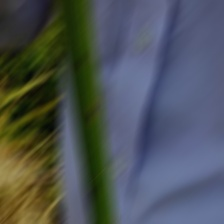Bacterial_Leaf_Blight: (87, 181, 97, 206), (88, 101, 98, 124), (75, 51, 87, 70)
